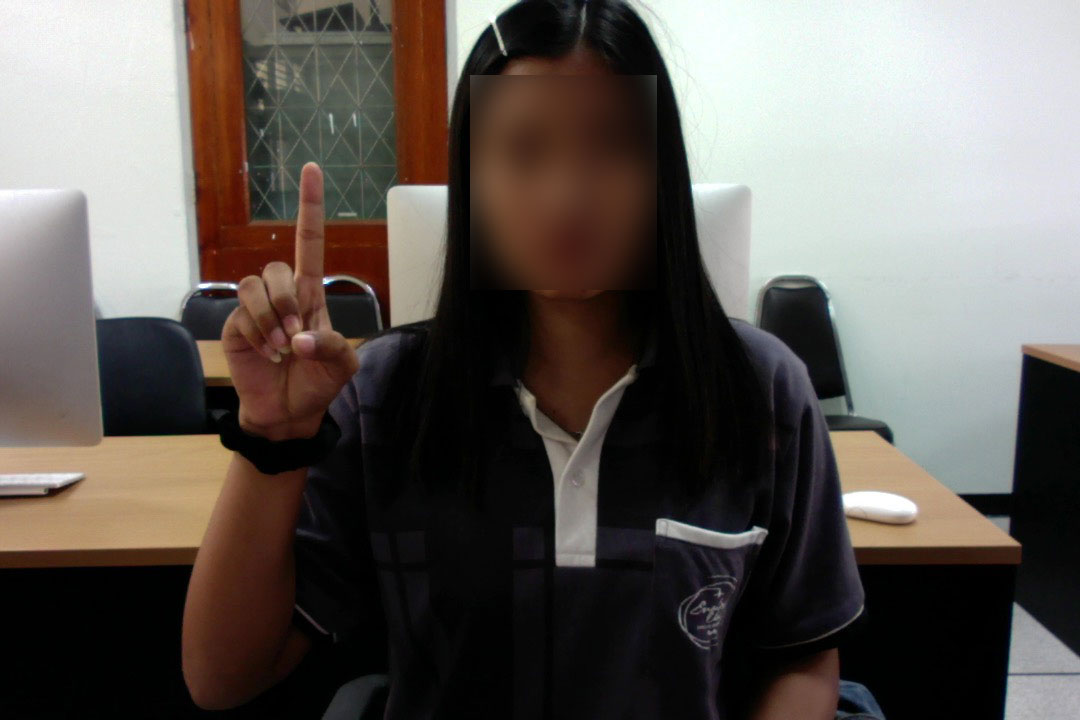dor: (215, 149, 367, 448)
